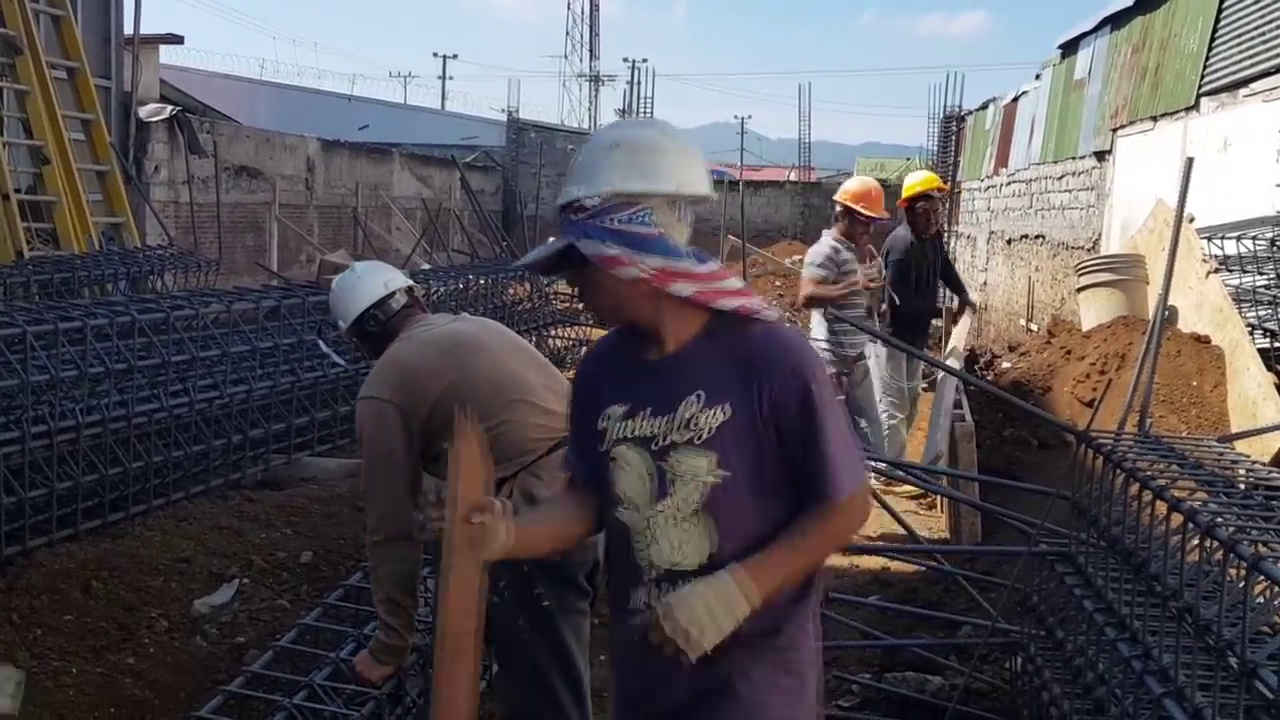helmet: (548, 116, 718, 225), (321, 262, 420, 352), (836, 176, 891, 222), (895, 166, 948, 203)
helmet-on: (527, 108, 733, 363), (321, 260, 436, 357), (834, 179, 894, 251), (899, 166, 951, 249)
person: (521, 120, 853, 711), (306, 257, 577, 664), (797, 165, 897, 460), (880, 161, 975, 462)
